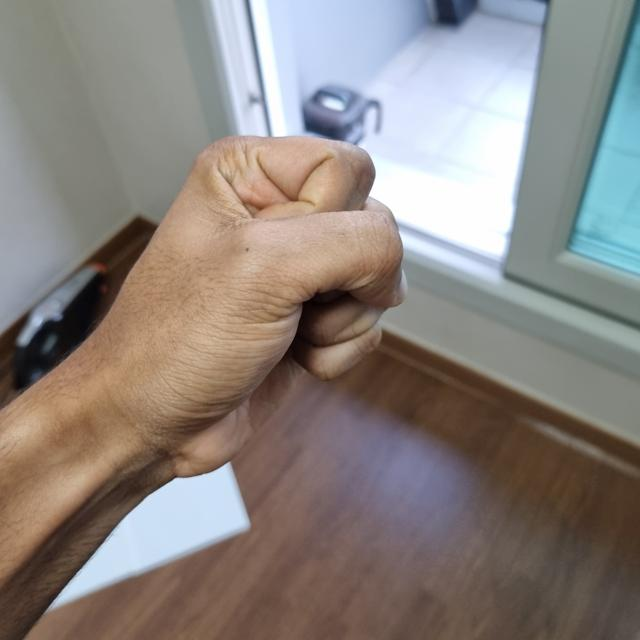Rock: (98, 132, 401, 467)
